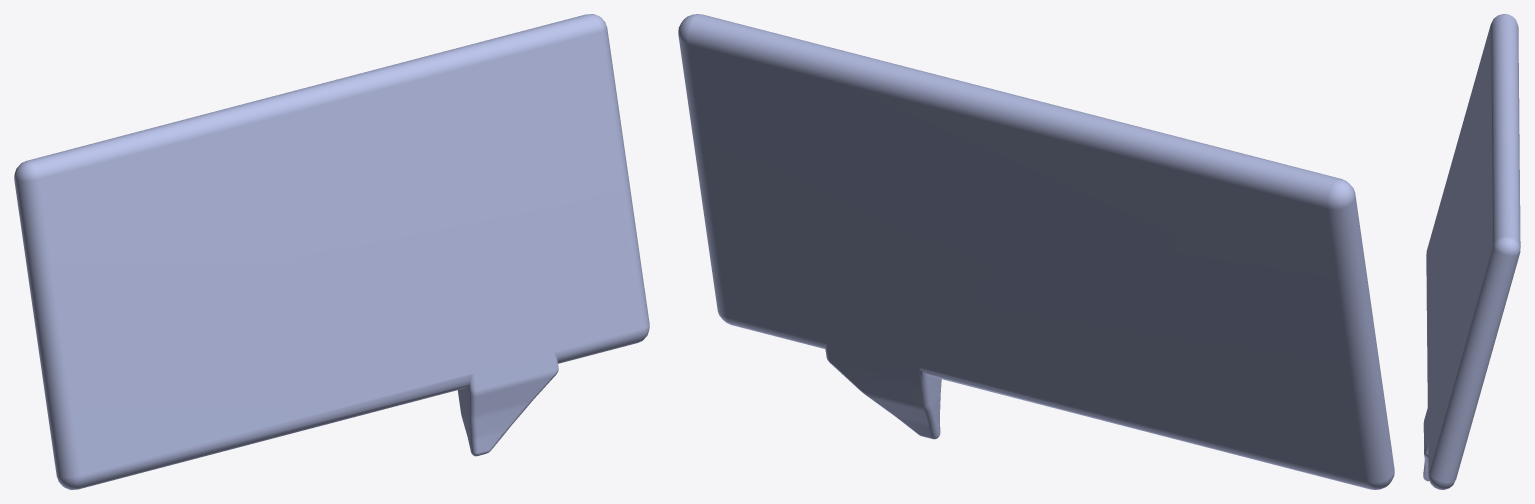
File: MessageColor1.fbx
The picture shows the model from 3 angles, left to right: view 1: azimuth 30°, elevation 25°; view 2: azimuth 150°, elevation 25°; view 3: azimuth 270°, elevation 25°; orthographic projection. The views are drawn at different scales.
Parts seen in each view (by area): view 1: node_id8; view 2: node_id8; view 3: node_id8.
Boxes of the visible parts, box(x1,y1,x2,y2) form: node_id8: box(14, 14, 649, 489); node_id8: box(678, 14, 1394, 489); node_id8: box(1423, 14, 1520, 489).
Bounding box in the file's own units: 0.5155 × 0.304 × 0.0873.
1 material, 1 textured.
